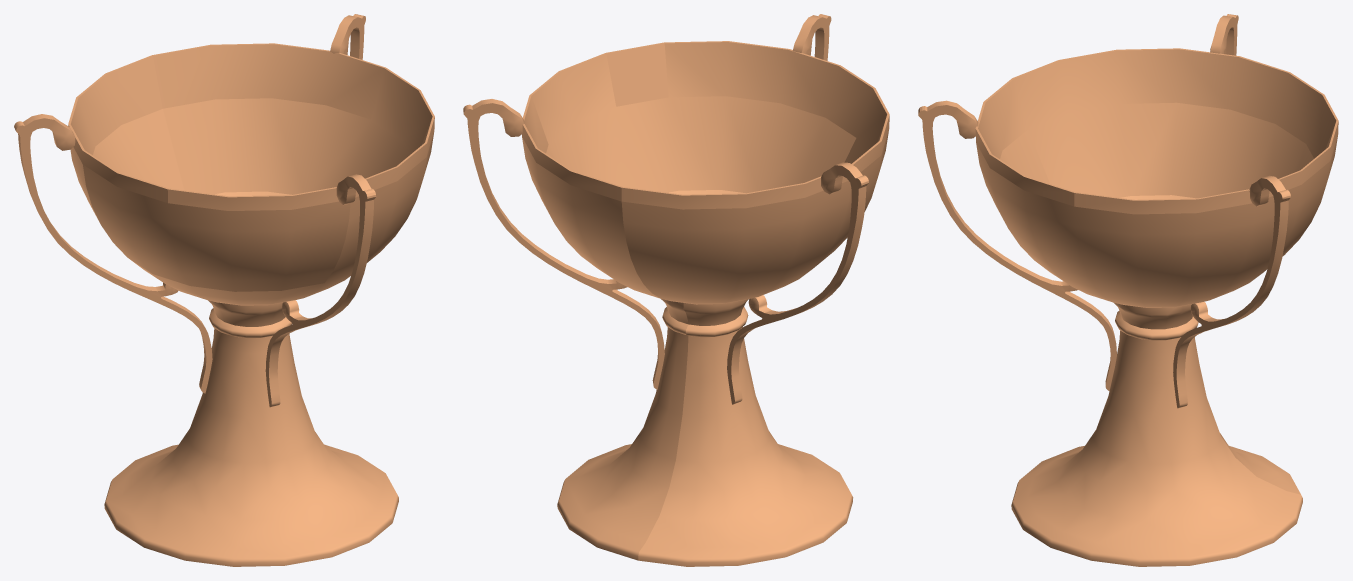
File: trophy_1507.glb
3 renders of one model, left to right at view 1: azimuth 30°, elevation 25°; view 2: azimuth 150°, elevation 25°; view 3: azimuth 270°, elevation 25°, orthographic.
Parts seen in each view (by area): view 1: trophy; view 2: trophy; view 3: trophy.
Part boxes in pixels (x1,y1,x2,y2): trophy: (14,14,434,566); trophy: (463,14,889,566); trophy: (918,14,1338,566).
Bounding box in the file's own units: 0.4196 × 0.4323 × 0.409.
Materials: 1 (1 with a texture image).
